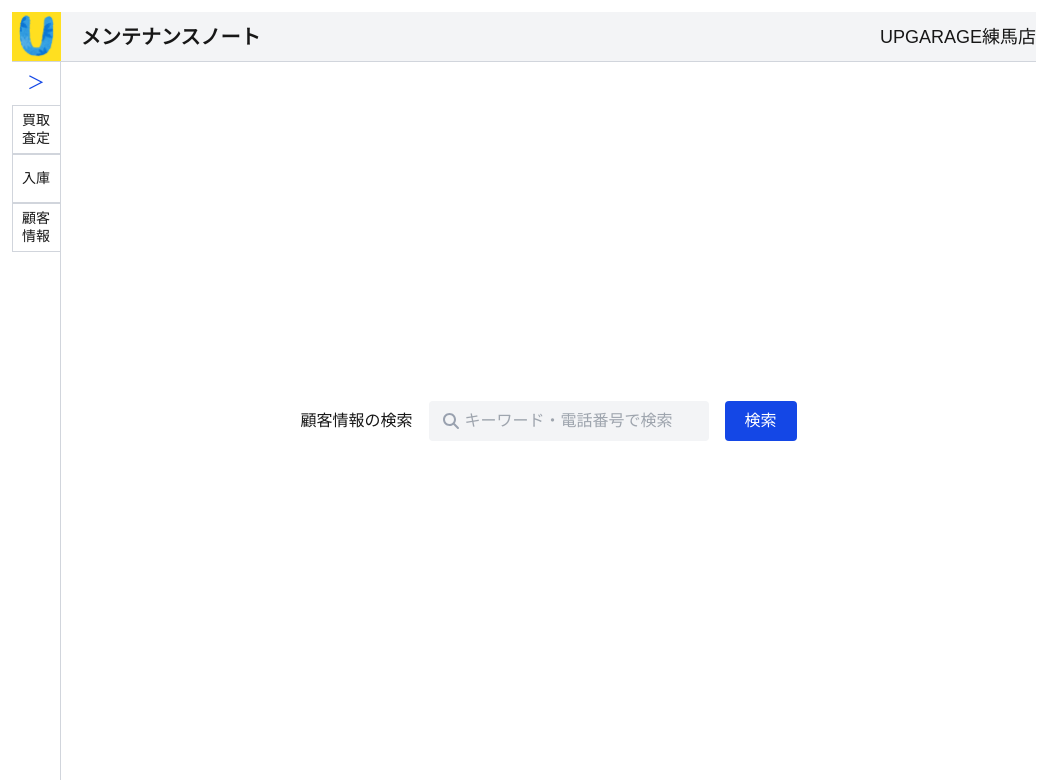
UserSearchPage › サイドバー上部の＞をクリックすると AllMenu が表示される
The width and height of the screenshot is (1048, 780).
Click the button "＞" at (36, 84), box [27,70,45,97]
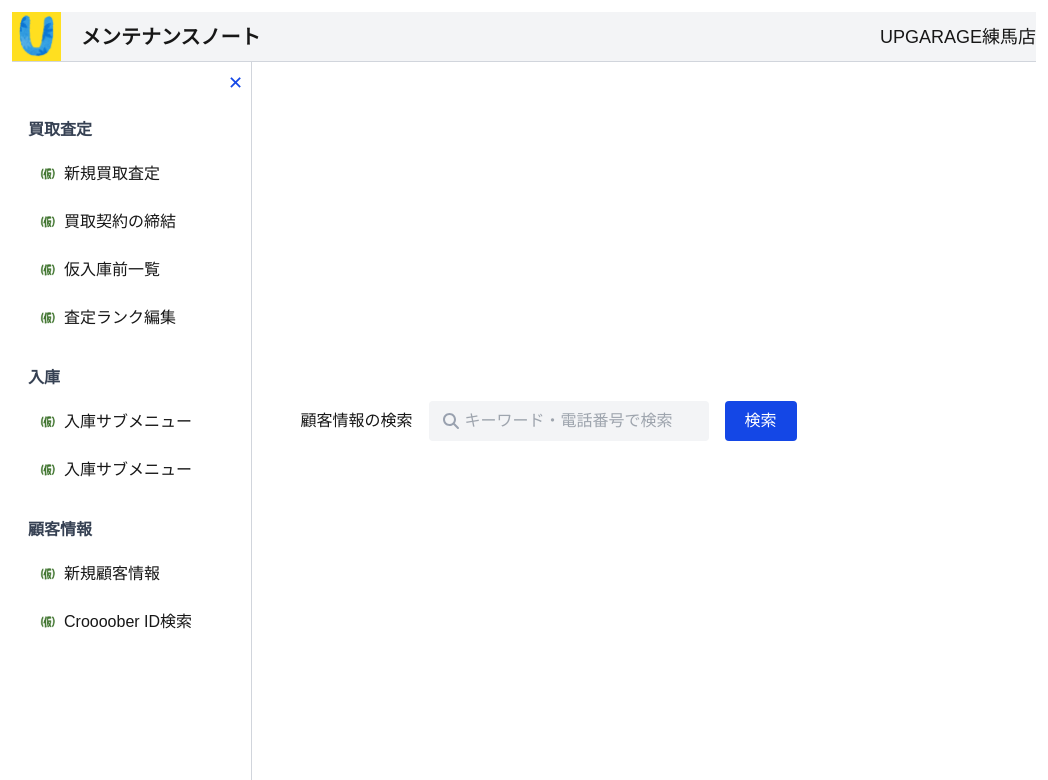
Result: the text "新規買取査定" is shown at [40,165,160,182]
Result: the text "買取契約の締結" is shown at [40,213,176,230]
Result: the text "仮入庫前一覧" is shown at [40,261,160,278]
